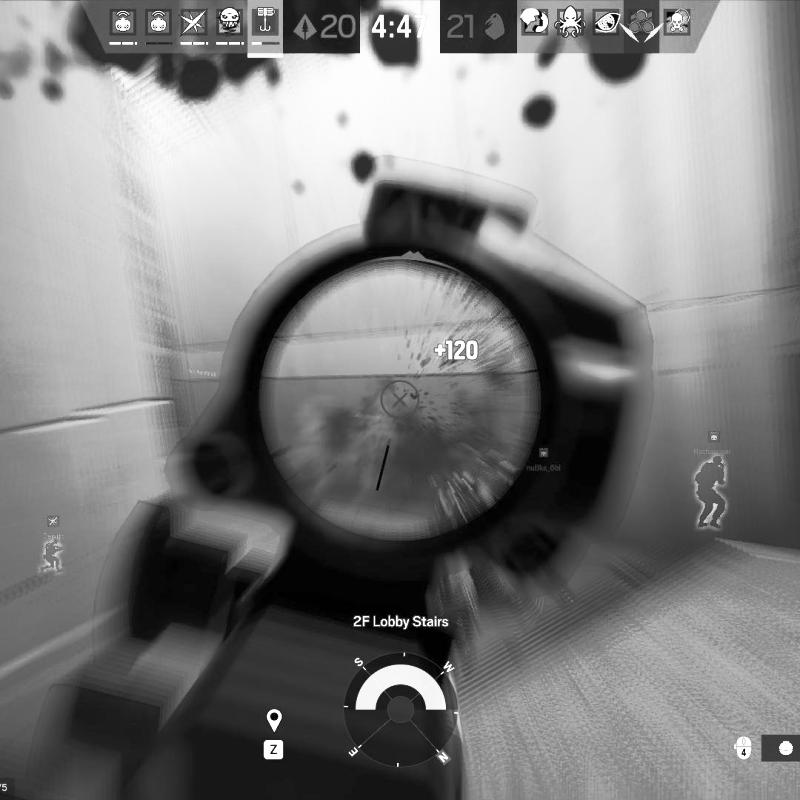Friend_label: (694, 429, 733, 455), (525, 446, 562, 472), (43, 514, 64, 540)
